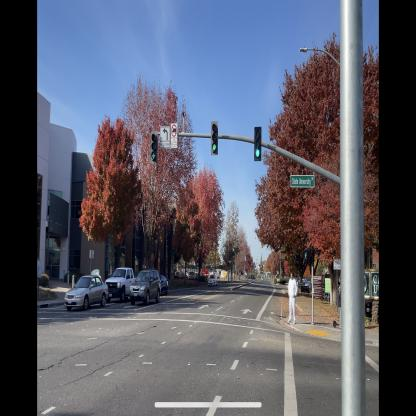green: (253, 124, 262, 163), (210, 120, 219, 156)
left-green: (150, 130, 158, 165)
